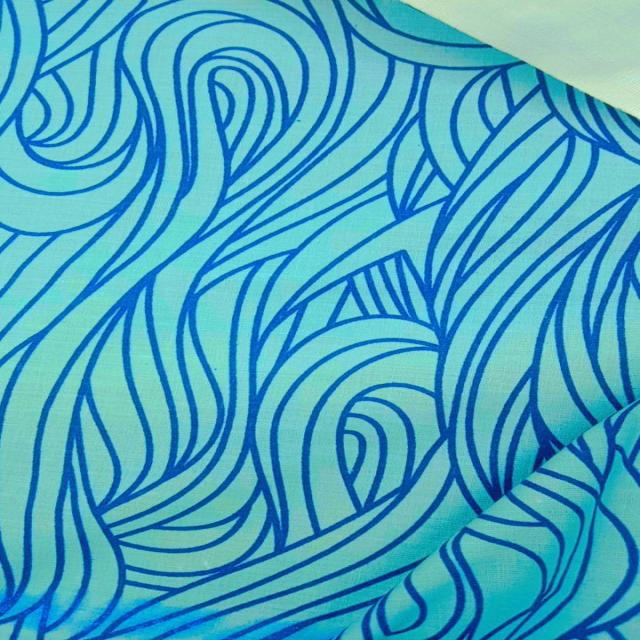color issues: (11, 560, 442, 640)
